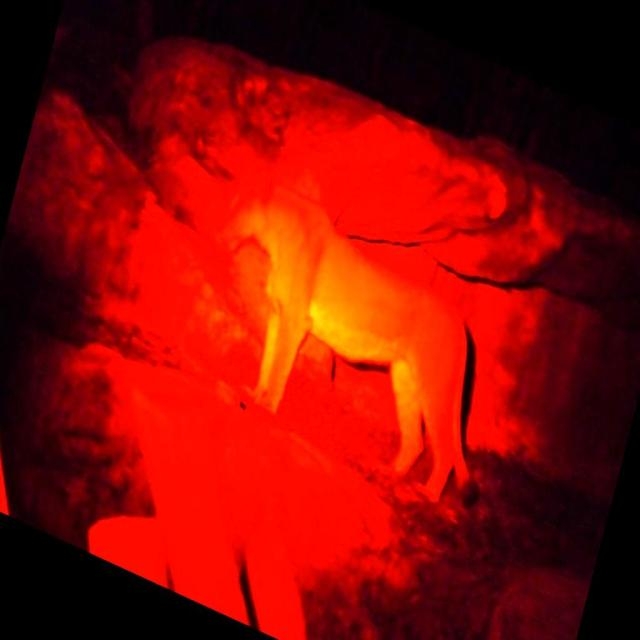Lion: (169, 152, 532, 521)
